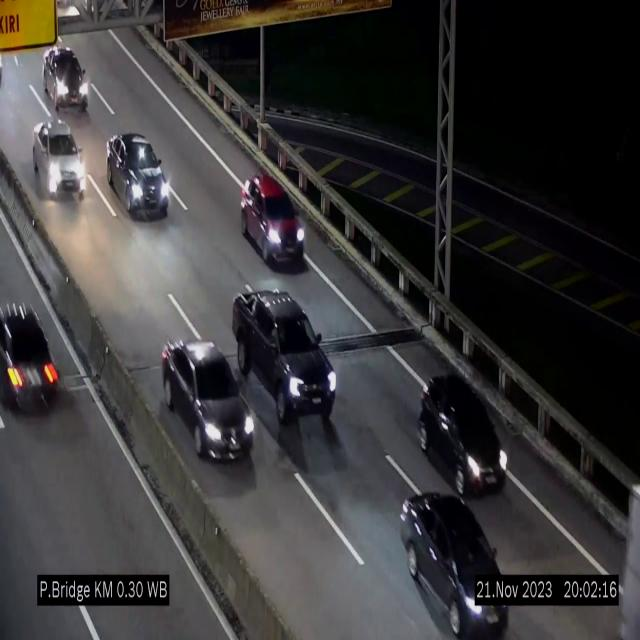Car: (232, 289, 337, 451), (401, 492, 509, 638), (422, 369, 510, 505), (162, 340, 256, 462), (240, 174, 306, 268), (107, 132, 170, 217), (31, 122, 89, 205), (38, 45, 96, 123)
